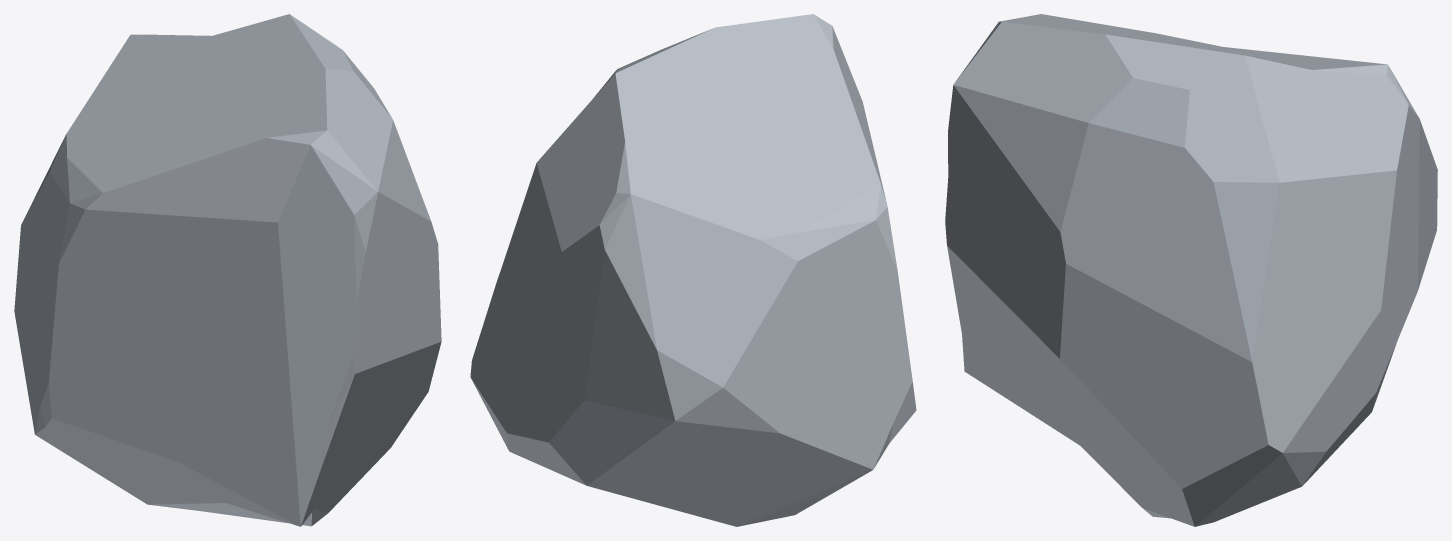
File: lowPolyTiles_SmallRock.fbx
3 renders of one model, left to right at view 1: azimuth 30°, elevation 25°; view 2: azimuth 150°, elevation 25°; view 3: azimuth 270°, elevation 25°, orthographic. The views are drawn at different scales.
Parts seen in each view (by area): view 1: LowPolyRock; view 2: LowPolyRock; view 3: LowPolyRock.
Part boxes in pixels (x1,y1,x2,y2): LowPolyRock: (14, 14, 441, 526); LowPolyRock: (470, 14, 916, 526); LowPolyRock: (945, 14, 1437, 526).
Size of the model in its own units: 33.7 by 37.34 by 34.92.
